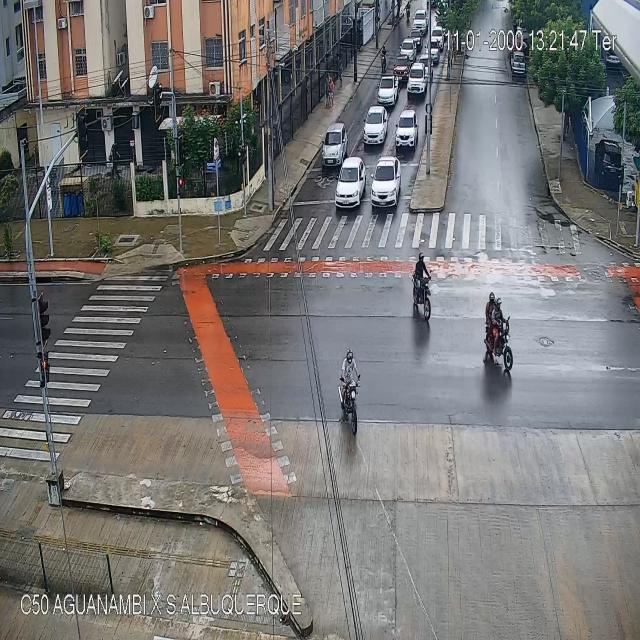Car: (371, 155, 401, 209), (338, 158, 364, 206), (364, 106, 388, 145), (324, 122, 346, 164), (395, 111, 418, 150), (378, 74, 400, 107), (408, 64, 427, 96), (413, 10, 428, 39), (427, 41, 440, 66), (395, 57, 408, 80), (400, 38, 413, 59), (431, 27, 444, 47), (512, 53, 525, 72)
Motorcycle: (484, 292, 513, 372), (338, 349, 361, 436), (412, 255, 432, 320), (380, 48, 387, 72), (406, 2, 412, 25)
